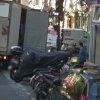Motorcycle: (8, 42, 86, 77)
